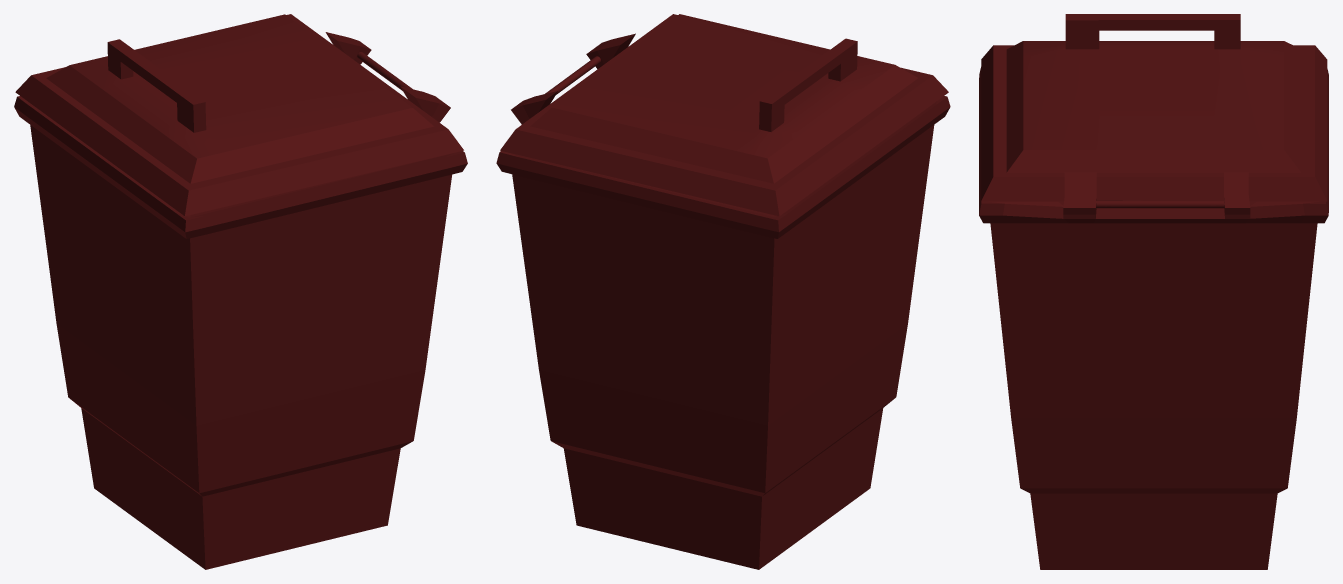
The model's file is trash_red.FBX.
3 views of the same model, side by side, from view 1: azimuth 30°, elevation 25°; view 2: azimuth 150°, elevation 25°; view 3: azimuth 270°, elevation 25° (orthographic). The views are drawn at different scales.
Visible parts, largest first — view 1: Box001, Box002; view 2: Box001, Box002; view 3: Box001, Box002, Cylinder001.
Boxes of the visible parts, x1,y1,x2,y2 form: Box001: [14, 32, 467, 569]; Box002: [15, 14, 463, 216]; Box001: [496, 33, 950, 569]; Box002: [500, 14, 948, 216]; Box001: [979, 67, 1328, 569]; Box002: [981, 14, 1327, 201]; Cylinder001: [1096, 200, 1224, 208].
Size of the model in its own units: 41.51 by 58.88 by 40.14.
